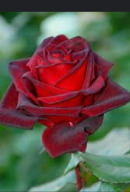RedRose: (0, 31, 130, 162)
